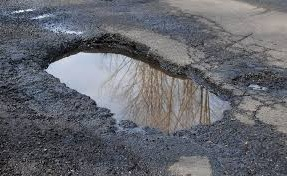pothole: (13, 43, 254, 127), (226, 73, 283, 98), (168, 154, 212, 176)
